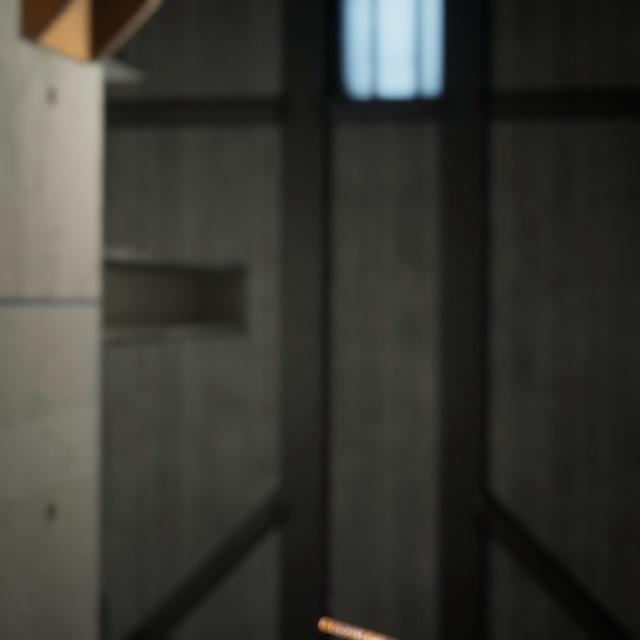bolt: (313, 589, 476, 640)
